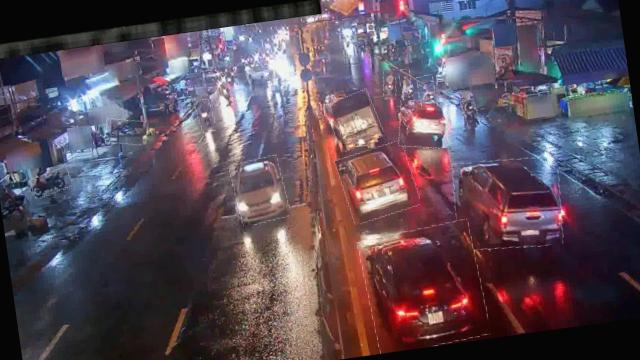Bike: (103, 115, 148, 148), (28, 168, 72, 197), (195, 98, 215, 133), (416, 75, 437, 108), (461, 98, 479, 129), (380, 68, 398, 99), (398, 68, 413, 102), (220, 82, 234, 105)
Car: (358, 219, 489, 354), (447, 150, 567, 256), (336, 140, 419, 224), (229, 155, 289, 226), (394, 94, 452, 152), (398, 98, 453, 152)
Truck: (325, 89, 383, 151)
